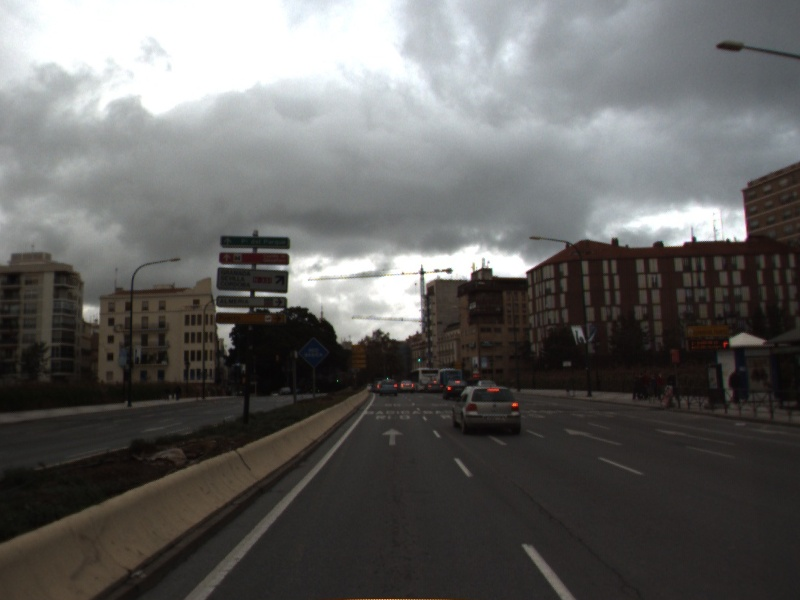STRAIGHT: (652, 425, 738, 448), (561, 425, 626, 448), (379, 426, 407, 448)
